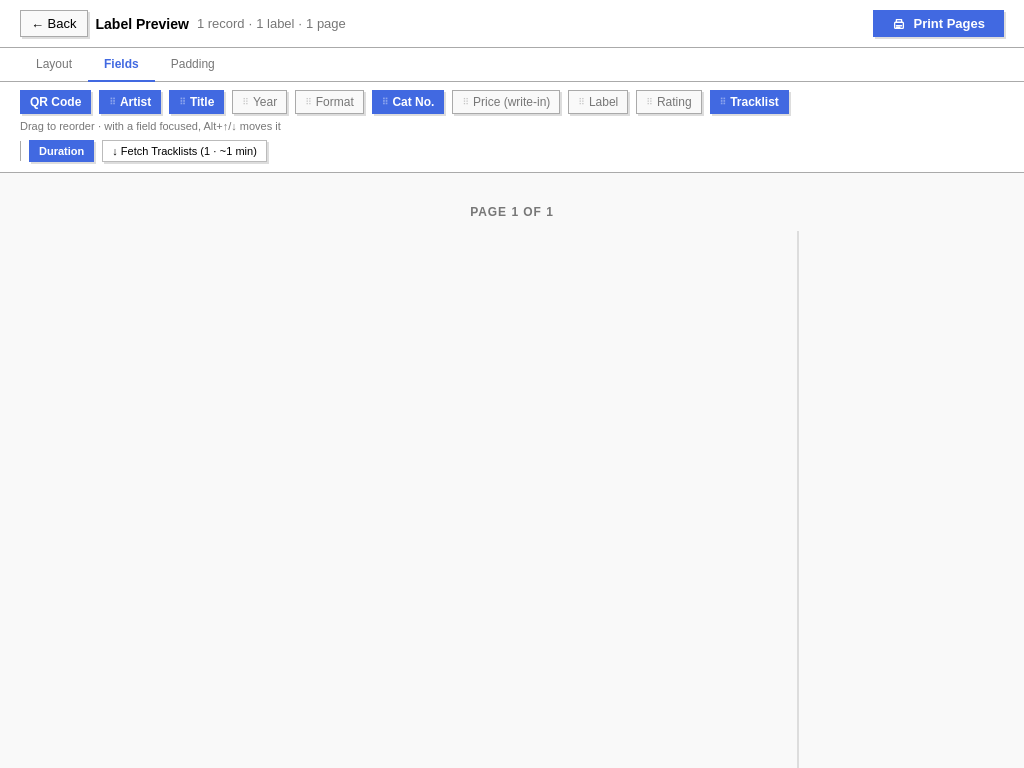
Test case: Preview tracklist errors › shows the progress error and removes the spinner
This screenshot has width=1024, height=768.
Click the button "↓ Fetch Tracklists (1 · ~1 min)".
click(184, 151)  # box [102, 140, 267, 162]
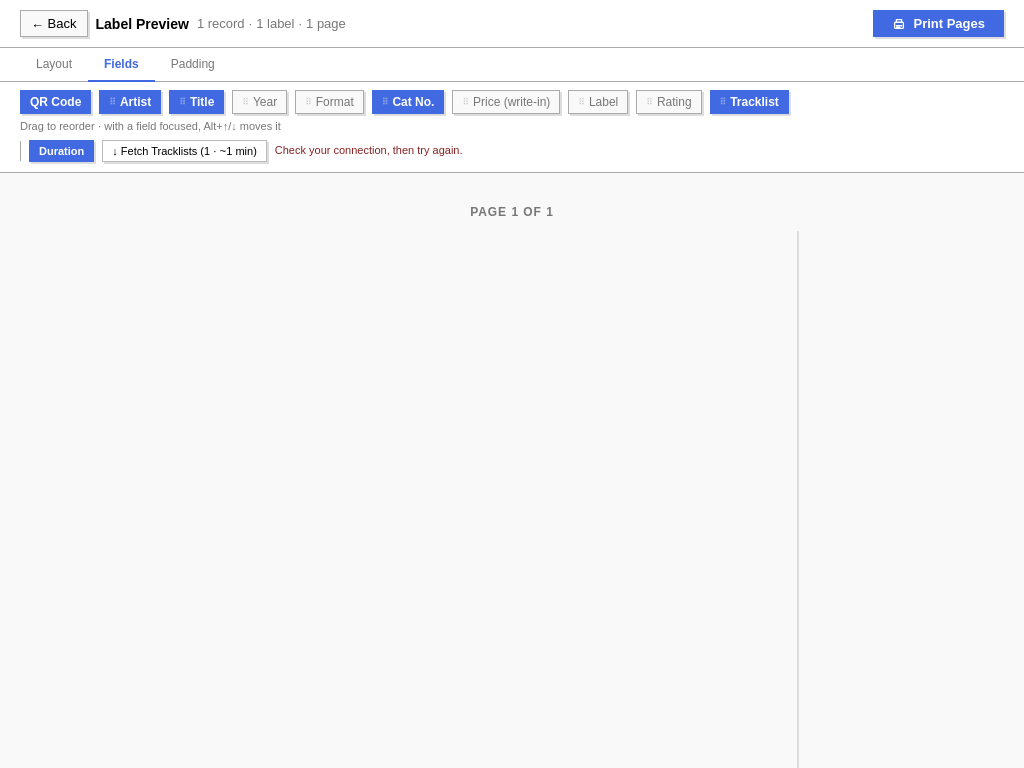
Now the message "Check your connection, then try again." is shown, box [275, 143, 462, 159]
